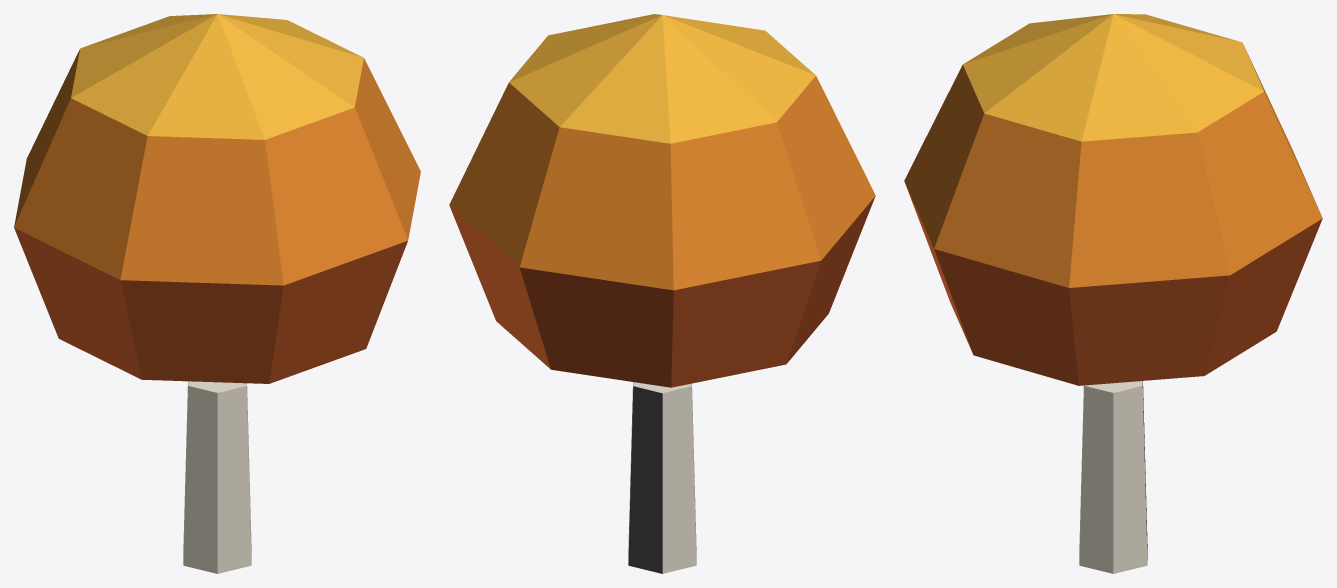
The model's file is tree_fat_fall.glb.
The picture shows the model from 3 angles, left to right: view 1: azimuth 30°, elevation 25°; view 2: azimuth 150°, elevation 25°; view 3: azimuth 270°, elevation 25°; orthographic projection.
Parts seen in each view (by area): view 1: tree_fat_fall; view 2: tree_fat_fall; view 3: tree_fat_fall.
Boxes of the visible parts, bbox=[...] form: tree_fat_fall: bbox=[14, 14, 420, 573]; tree_fat_fall: bbox=[449, 14, 875, 573]; tree_fat_fall: bbox=[904, 14, 1322, 573].
Bounding box in the file's own units: 0.7435 × 1.06 × 0.7435.
1 material, 1 textured.
